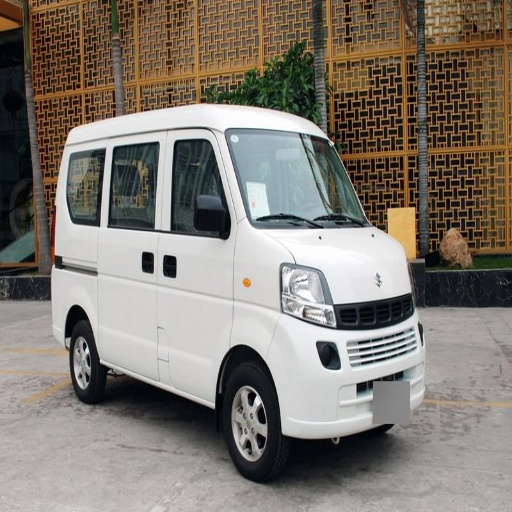front_bumper: (268, 292, 425, 438)
front_right_door: (155, 132, 235, 395)
front_right_light: (282, 263, 339, 327)
